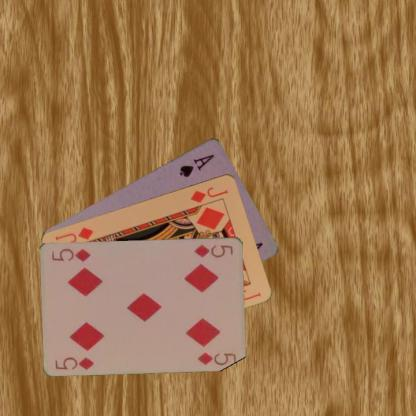5d: (52, 354, 96, 372), (192, 241, 234, 259)
As: (176, 152, 216, 178)
Jd: (188, 184, 229, 204)
